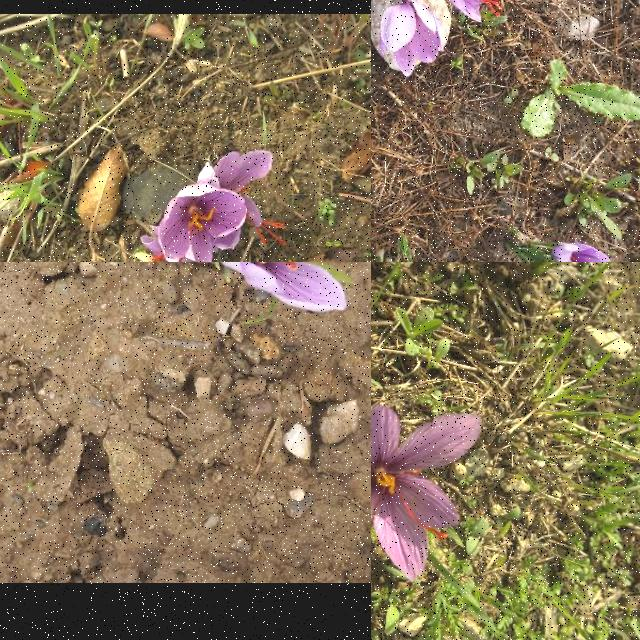flower: (371, 408, 482, 583), (212, 262, 347, 311), (378, 0, 442, 78), (441, 0, 505, 23), (553, 243, 610, 262)
overlap: (141, 148, 287, 262)
